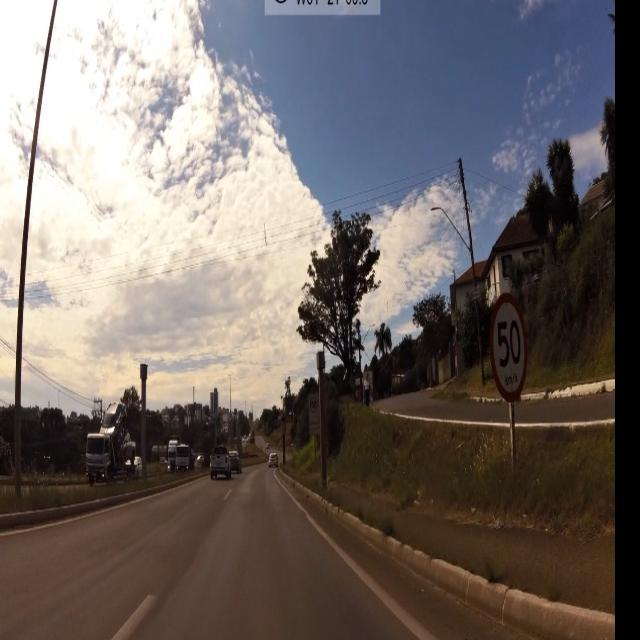R-19: (491, 297, 526, 403)
